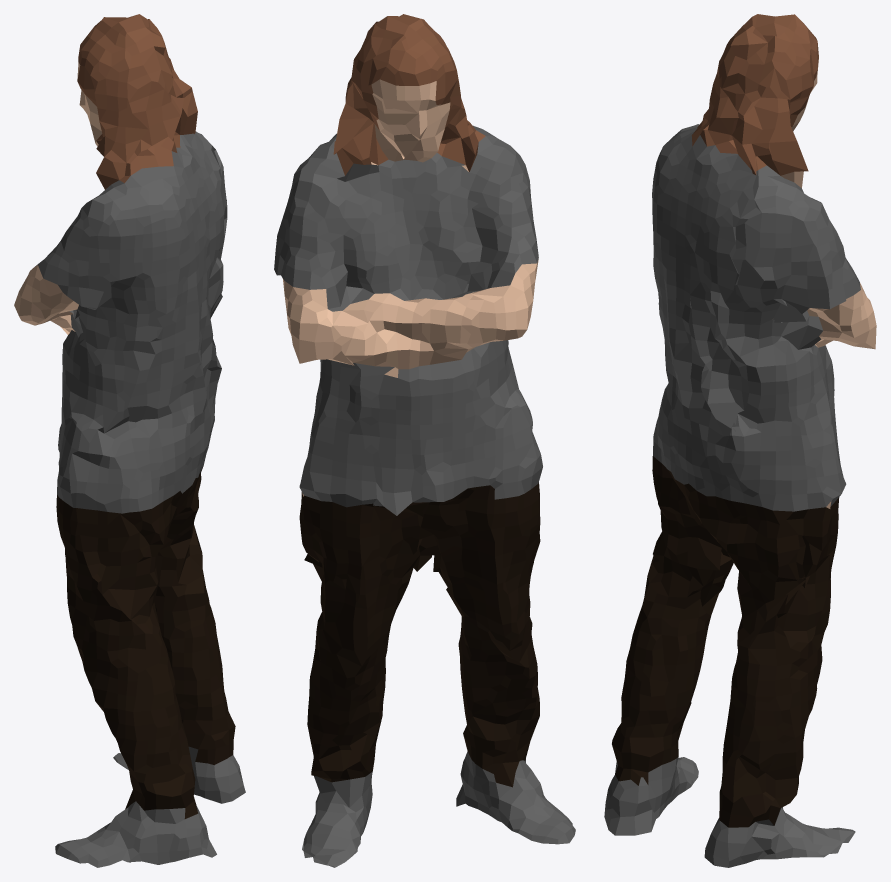
File: martin.glb
3 renders of one model, left to right at view 1: azimuth 30°, elevation 25°; view 2: azimuth 150°, elevation 25°; view 3: azimuth 270°, elevation 25°, orthographic. The views are drawn at different scales.
Parts seen in each view (by area): view 1: Model.001; view 2: Model.001; view 3: Model.001.
Boxes of the visible parts, bbox=[...] form: Model.001: bbox=[14, 14, 245, 867]; Model.001: bbox=[274, 14, 575, 867]; Model.001: bbox=[604, 14, 876, 867].
Size of the model in its own units: 0.5333 by 1.93 by 0.5847.
